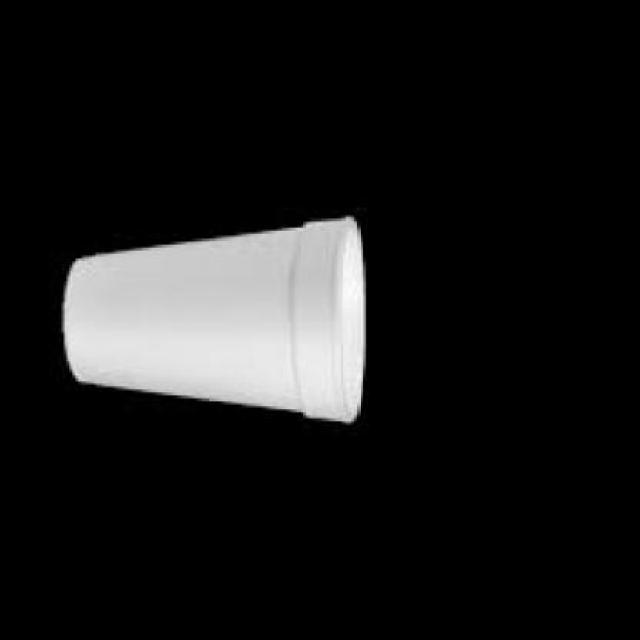PAPER: (65, 222, 367, 429)
